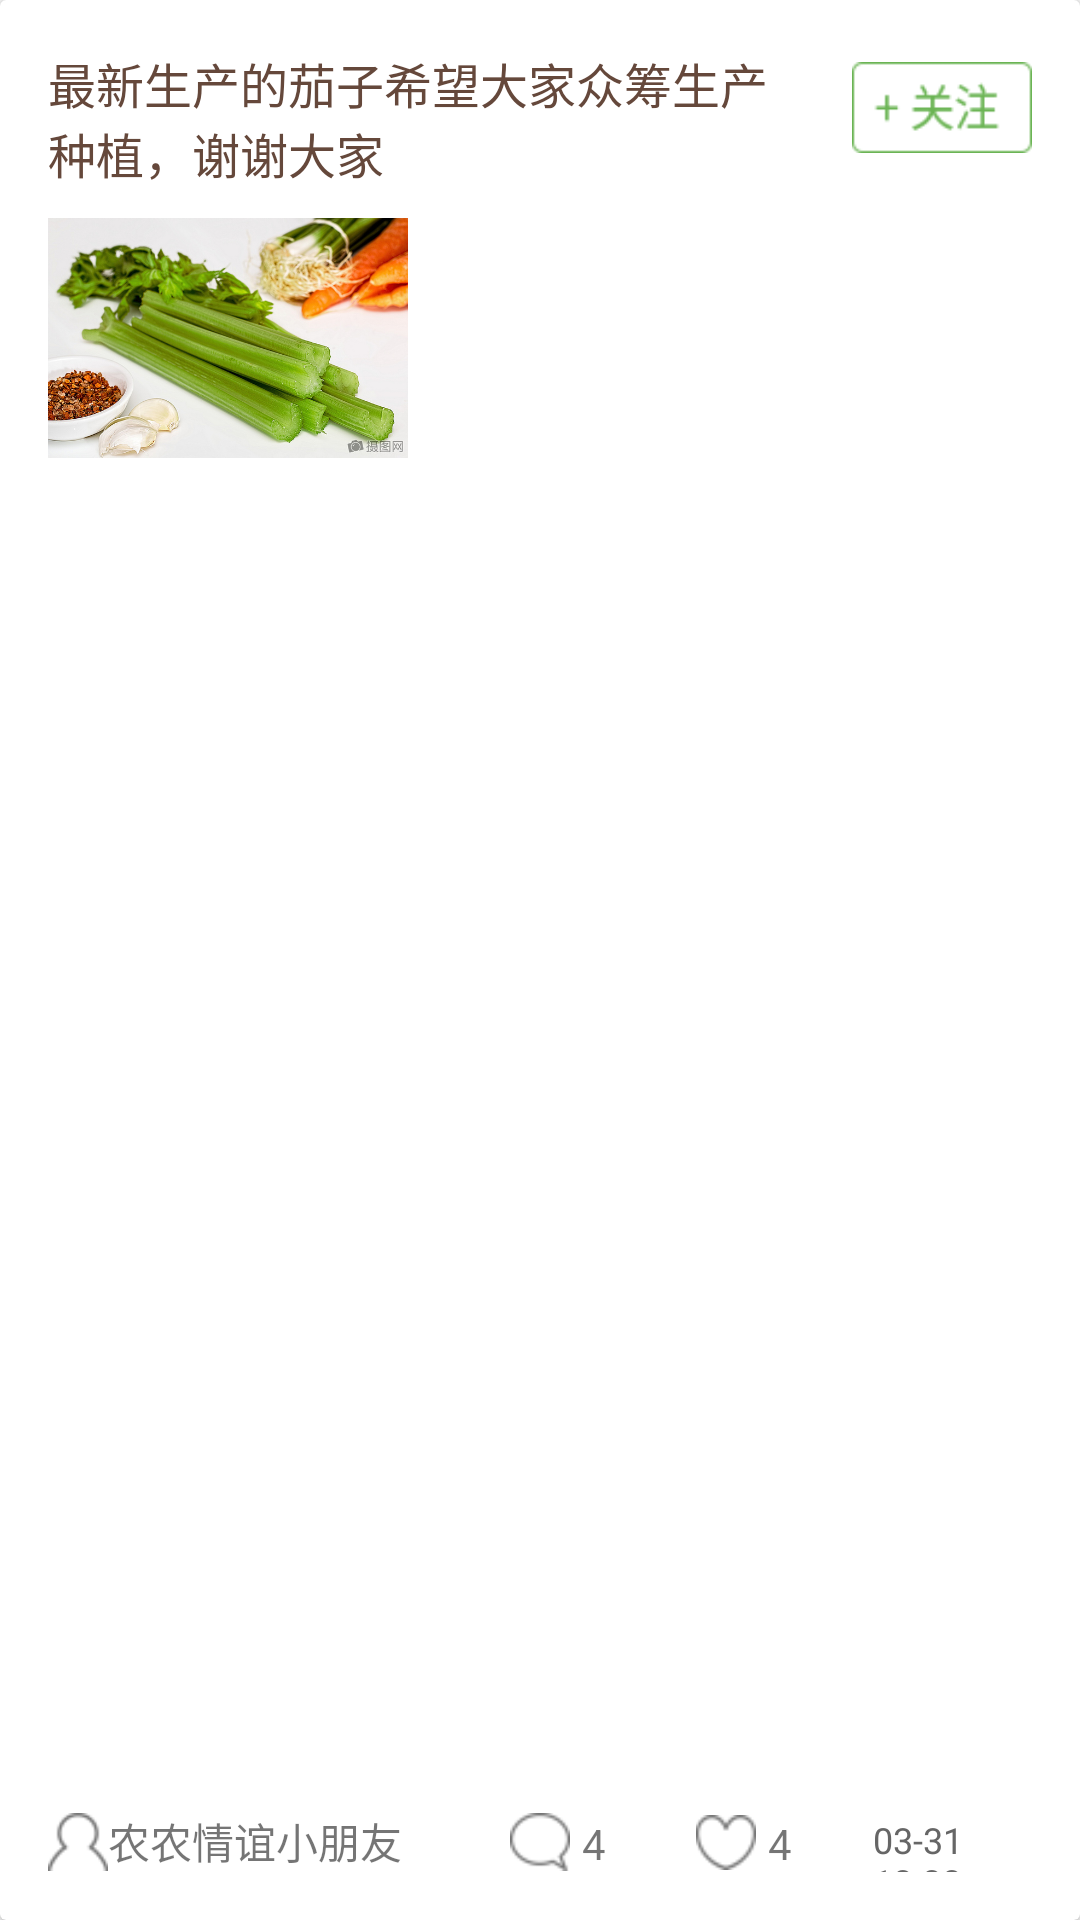

Point at icon controls on the screen. Image size 1080×1920, points as (x,y).
shucai: (228,338)
